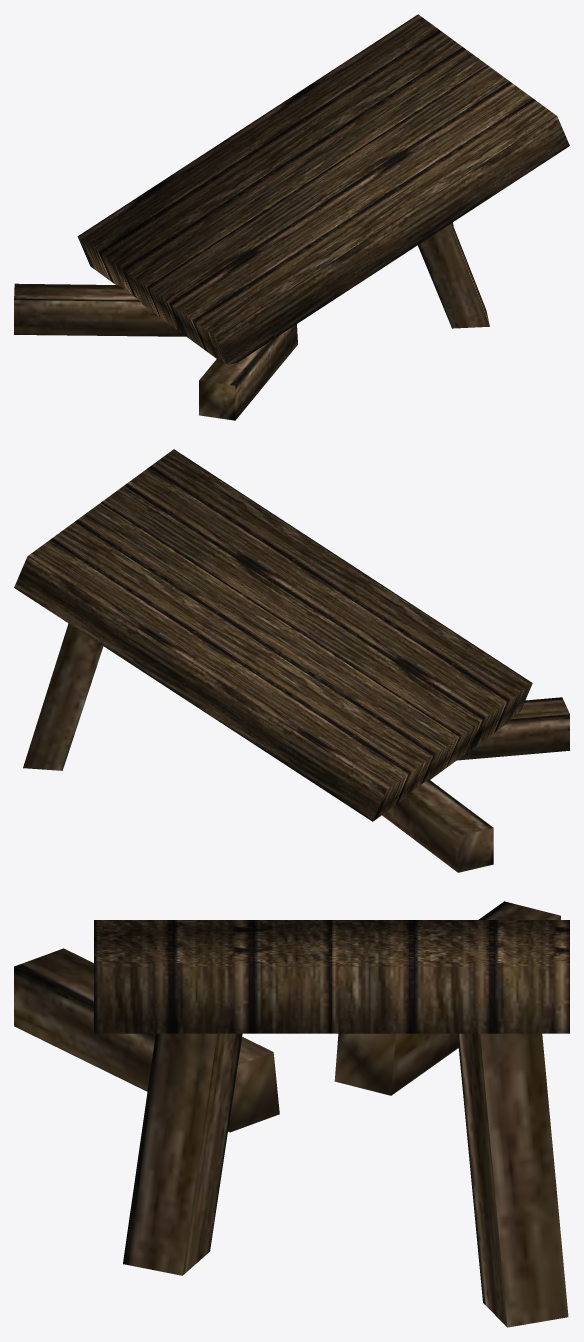
The model's file is OC_MOB_TABLE_NORMAL_DEFECT.glb.
The picture shows the model from 3 angles, top to bottom: view 1: azimuth 30°, elevation 25°; view 2: azimuth 150°, elevation 25°; view 3: azimuth 270°, elevation 25°; orthographic projection. The views are drawn at different scales.
Visible parts, largest first — view 1: Mesh; view 2: Mesh; view 3: Mesh.
Part boxes in pixels (x1=…): Mesh: x1=14, y1=14, x2=569, y2=420; Mesh: x1=14, y1=449, x2=569, y2=872; Mesh: x1=14, y1=901, x2=569, y2=1327.
Size of the model in its own units: 1.85 by 0.8186 by 1.18.
Materials: 1 (1 with a texture image).
